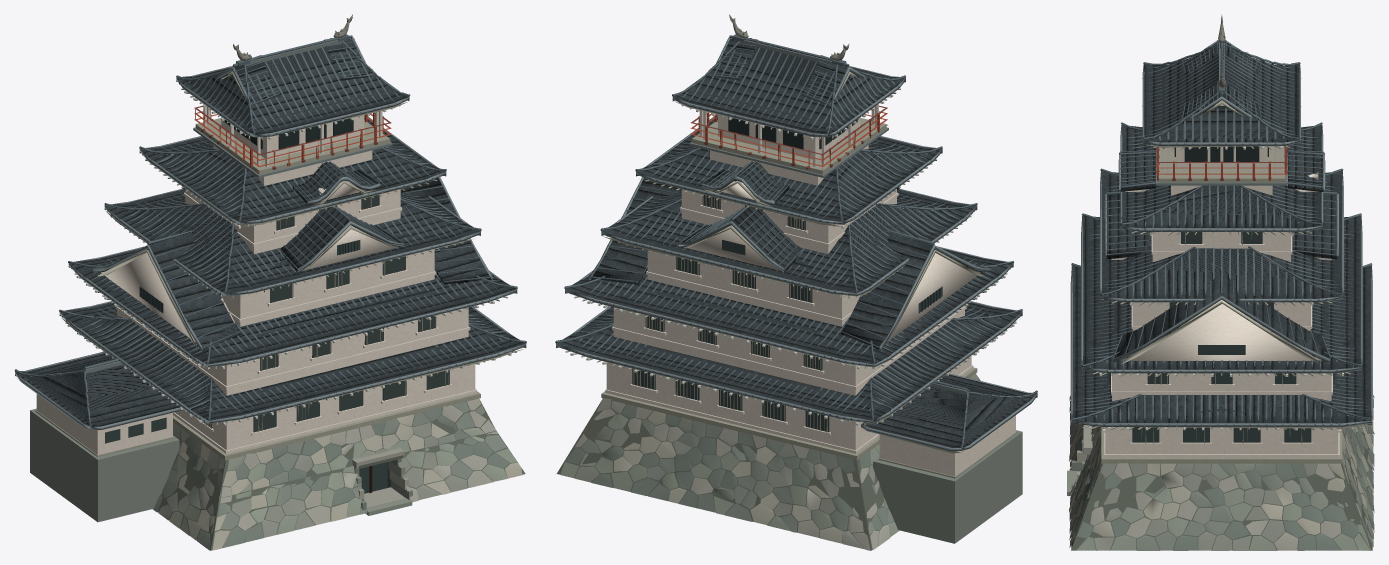
The model's file is desk-karatsu-castle.glb.
3 views of the same model, side by side, from view 1: azimuth 30°, elevation 25°; view 2: azimuth 150°, elevation 25°; view 3: azimuth 270°, elevation 25° (orthographic).
Visible parts, largest first — view 1: 唐津城 · Slate 344044, 唐津城 · Finish ffffff, 唐津城 · Plaster eeeae0, 唐津城 · Finish 56646a, 唐津城 · Finish 738084, 唐津城 · Plaster fffaf0, 唐津城 · Finish 818a80, 唐津城 · Plaster d1d1c8, 唐津城 · Finish 62695e, 唐津城 · Finish 354543, 唐津城 · Finish 827f72, 唐津城 · Finish 737e7e (+6 smaller); view 2: 唐津城 · Slate 344044, 唐津城 · Finish ffffff, 唐津城 · Plaster eeeae0, 唐津城 · Finish 56646a, 唐津城 · Finish 738084, 唐津城 · Plaster fffaf0, 唐津城 · Finish 818a80, 唐津城 · Plaster d1d1c8, 唐津城 · Finish 62695e, 唐津城 · Finish 354543, 唐津城 · Finish 827f72, 唐津城 · Finish 737e7e (+4 smaller); view 3: 唐津城 · Slate 344044, 唐津城 · Finish ffffff, 唐津城 · Finish 56646a, 唐津城 · Plaster eeeae0, 唐津城 · Plaster fffaf0, 唐津城 · Finish 738084, 唐津城 · Finish 62695e, 唐津城 · Plaster d1d1c8, 唐津城 · Finish 354543, 唐津城 · Finish 242e2e, 唐津城 · Finish a44c35, 唐津城 · Finish 737e7e (+1 smaller).
Boxes of the visible parts, <box> form: 唐津城 · Slate 344044: <box>15,38,526,429</box>; 唐津城 · Finish ffffff: <box>152,398,522,550</box>; 唐津城 · Plaster eeeae0: <box>36,145,475,454</box>; 唐津城 · Finish 56646a: <box>14,34,526,426</box>; 唐津城 · Finish 738084: <box>15,37,526,429</box>; 唐津城 · Plaster fffaf0: <box>101,104,476,453</box>; 唐津城 · Finish 818a80: <box>30,408,412,522</box>; 唐津城 · Plaster d1d1c8: <box>17,71,523,460</box>; 唐津城 · Finish 62695e: <box>157,399,525,550</box>; 唐津城 · Finish 354543: <box>105,75,449,493</box>; 唐津城 · Finish 827f72: <box>198,195,449,432</box>; 唐津城 · Finish 737e7e: <box>83,39,392,373</box>; 唐津城 · Slate 344044: <box>556,38,1037,451</box>; 唐津城 · Finish ffffff: <box>560,373,978,550</box>; 唐津城 · Plaster eeeae0: <box>606,145,1015,476</box>; 唐津城 · Finish 56646a: <box>555,34,1037,447</box>; 唐津城 · Finish 738084: <box>556,37,1037,451</box>; 唐津城 · Plaster fffaf0: <box>605,104,980,453</box>; 唐津城 · Finish 818a80: <box>873,430,1022,543</box>; 唐津城 · Plaster d1d1c8: <box>565,71,1017,478</box>; 唐津城 · Finish 62695e: <box>556,376,980,550</box>; 唐津城 · Finish 354543: <box>632,75,942,432</box>; 唐津城 · Finish 827f72: <box>633,195,844,432</box>; 唐津城 · Finish 737e7e: <box>689,40,969,394</box>; 唐津城 · Slate 344044: <box>1072,41,1371,425</box>; 唐津城 · Finish ffffff: <box>1069,394,1374,550</box>; 唐津城 · Finish 56646a: <box>1071,40,1372,426</box>; 唐津城 · Plaster eeeae0: <box>1105,185,1338,454</box>; 唐津城 · Plaster fffaf0: <box>1103,100,1340,457</box>; 唐津城 · Finish 738084: <box>1070,40,1372,426</box>; 唐津城 · Finish 62695e: <box>1071,424,1372,550</box>; 唐津城 · Plaster d1d1c8: <box>1073,101,1369,463</box>; 唐津城 · Finish 354543: <box>1132,105,1339,442</box>; 唐津城 · Finish 242e2e: <box>1174,108,1268,161</box>; 唐津城 · Finish a44c35: <box>1156,163,1286,180</box>; 唐津城 · Finish 737e7e: <box>1156,43,1287,185</box>.
Size of the model in its own units: 28.15 by 30 by 19.38.
24 materials, 5 textured.
